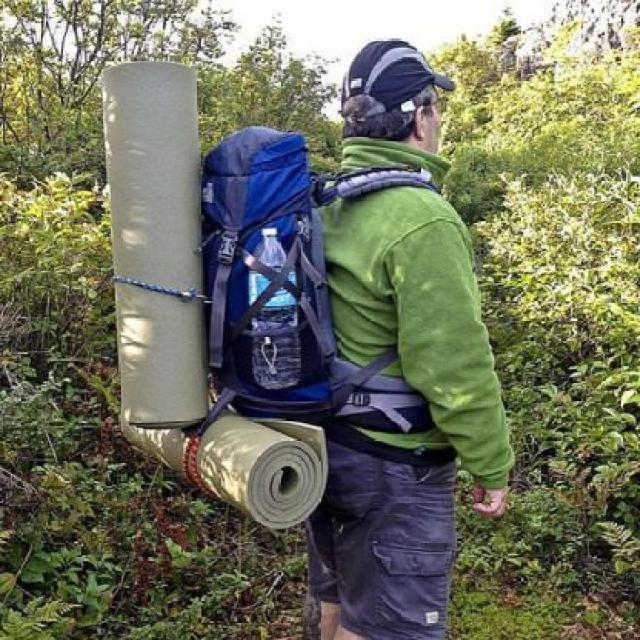backpack: (202, 119, 336, 423)
